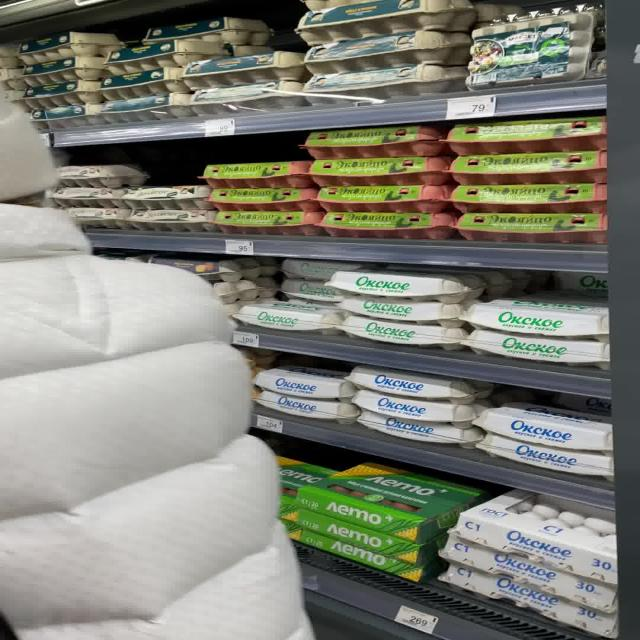egg box: (303, 445, 495, 541), (454, 477, 614, 583), (462, 4, 596, 91), (306, 29, 462, 77), (294, 0, 472, 42), (303, 60, 462, 107), (462, 290, 603, 341), (443, 112, 606, 156), (484, 397, 611, 451), (479, 429, 616, 477), (446, 145, 604, 186), (299, 124, 452, 159), (450, 180, 603, 215), (185, 47, 300, 90), (454, 210, 602, 243), (355, 408, 476, 448), (332, 269, 483, 301), (348, 366, 473, 404), (190, 76, 300, 119), (348, 386, 471, 424), (311, 208, 452, 240), (462, 333, 603, 365), (303, 156, 447, 184), (140, 17, 281, 45), (254, 386, 357, 424), (251, 364, 347, 402), (339, 322, 469, 349), (315, 183, 447, 209), (211, 208, 318, 236), (204, 159, 312, 185), (339, 301, 472, 322), (234, 304, 334, 331), (212, 187, 314, 209)
